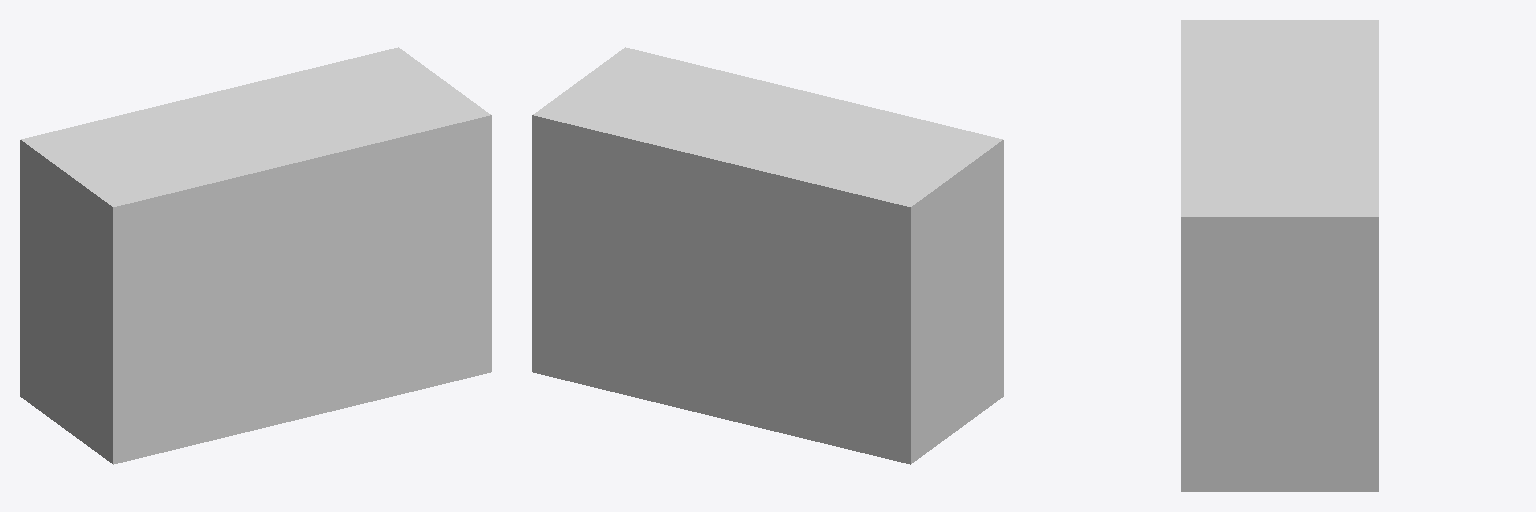
The robot description file, URDF, robot "cuttingBoard_sim":
<?xml version="1.0"?>
<robot name="cuttingBoard_sim">
  <link name="link0">
  <contact>
      <lateral_friction value="1"/>
  </contact>
    <inertial>
      <origin xyz="0 0 0" rpy="0 0 0" />
      <mass value="2.5" />
      <inertia ixx="1" ixy="0" ixz="0" iyy="1" iyz="0" izz="1" />
    </inertial>
    <visual>
      <origin xyz="0 0 0" rpy="0 0 0" />
      <geometry>
        <box size="0.2 0.085 0.13" /> <!-- is 0.135-->
      </geometry>
      <material name="grey">
        <color rgba="0.9 0.9 0.9 1.0" />
      </material>
    </visual>
    <collision>
      <origin xyz="0 0 0" rpy="0 0 0" />
      <geometry>
        <box size="0.2 0.085 0.13" />
      </geometry>
    </collision>
  </link>
</robot>

--- What the picture shows (computed from the rendered views, not written in the file) ---
Views: 3 orthographic renders of the robot side by side, from view 1: azimuth 30°, elevation 25°; view 2: azimuth 150°, elevation 25°; view 3: azimuth 270°, elevation 25°.
Robot: cuttingBoard_sim — 1 links, 0 joints (none); root link link0; default pose: every joint at zero.
Links seen in each view (by area): view 1: link0; view 2: link0; view 3: link0.
Link boxes in pixels (bbox=[...]): link0: bbox=[20, 47, 491, 464]; link0: bbox=[532, 47, 1003, 464]; link0: bbox=[1181, 20, 1378, 491].
Size in the robot's own frame: 0.2 by 0.085 by 0.13 metres.
Geometry: primitives only (box / cylinder / sphere), no mesh files.